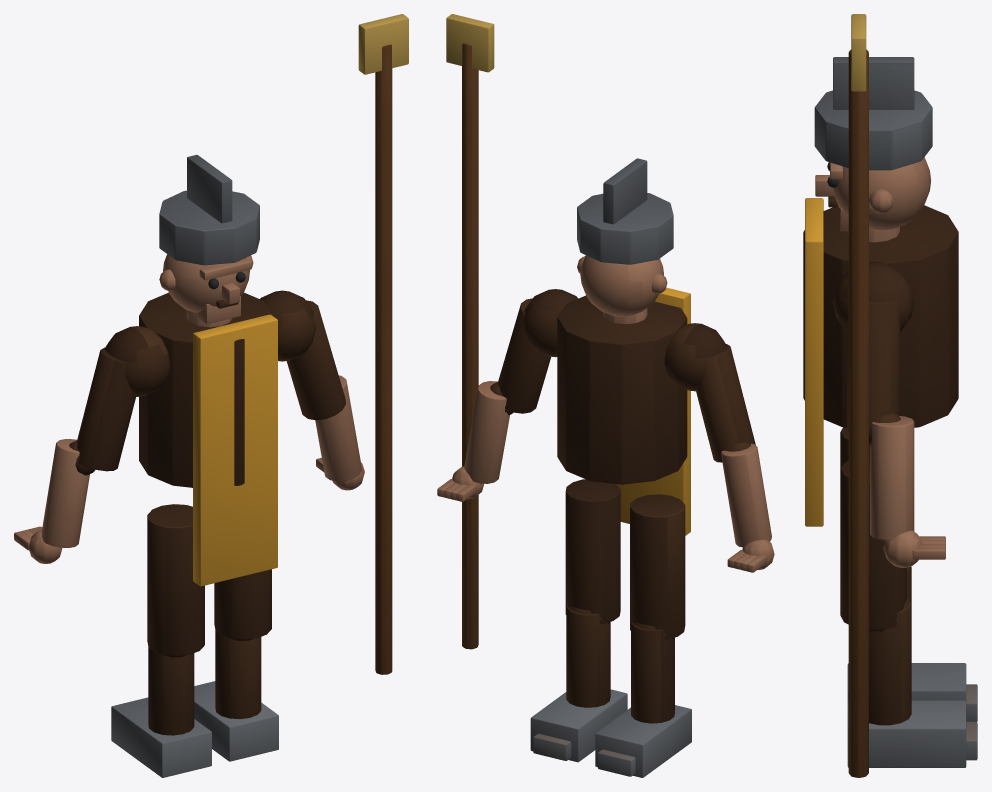
Rendered from unit_church_dawn_zealot.fbx.
3 renders of one model, left to right at view 1: azimuth 30°, elevation 25°; view 2: azimuth 150°, elevation 25°; view 3: azimuth 270°, elevation 25°, orthographic. The views are drawn at different scales.
Parts seen in each view (by area): view 1: unit_church_dawn_zealot; view 2: unit_church_dawn_zealot; view 3: unit_church_dawn_zealot.
Boxes of the visible parts, box(x1,y1,x2,y2) form: unit_church_dawn_zealot: box(14, 14, 408, 777); unit_church_dawn_zealot: box(437, 14, 774, 777); unit_church_dawn_zealot: box(803, 14, 977, 777).
Bounding box in the file's own units: 1.27 × 2.39 × 0.4693.
